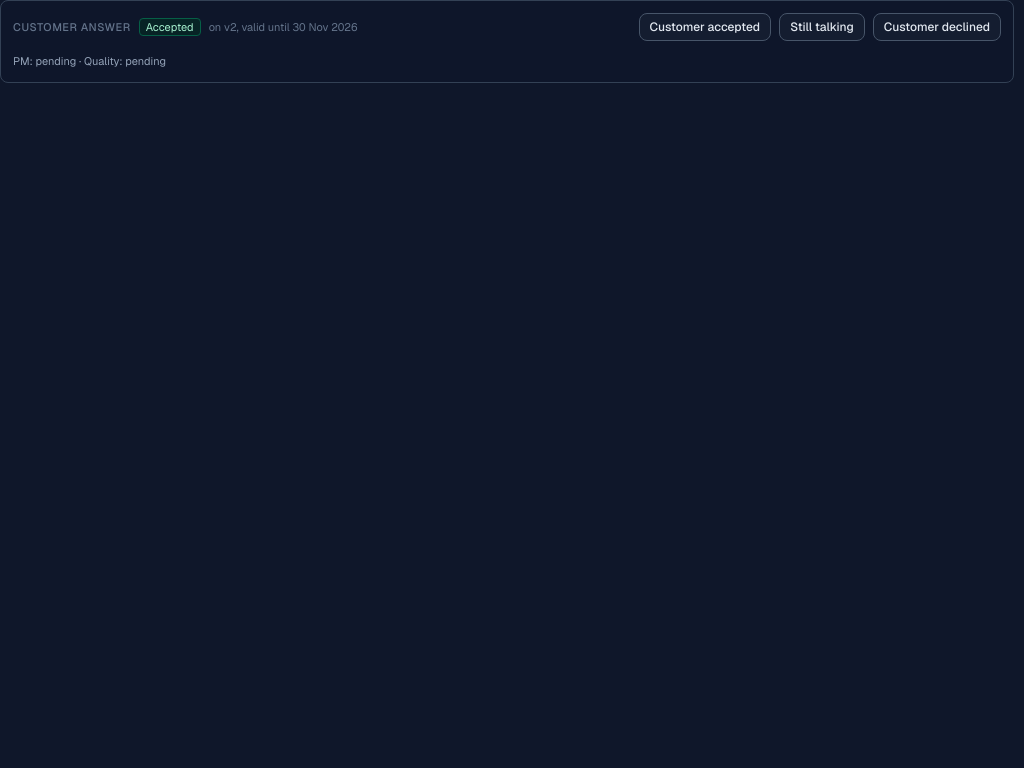
Test case: CustomerDecision §7 (COMMERCIAL_V2) › a supplement out is answered past approval, without a new release date
Later steps or results of the test are not shown.
Click the button "Customer declined": click(937, 27) [873,13,1001,41]
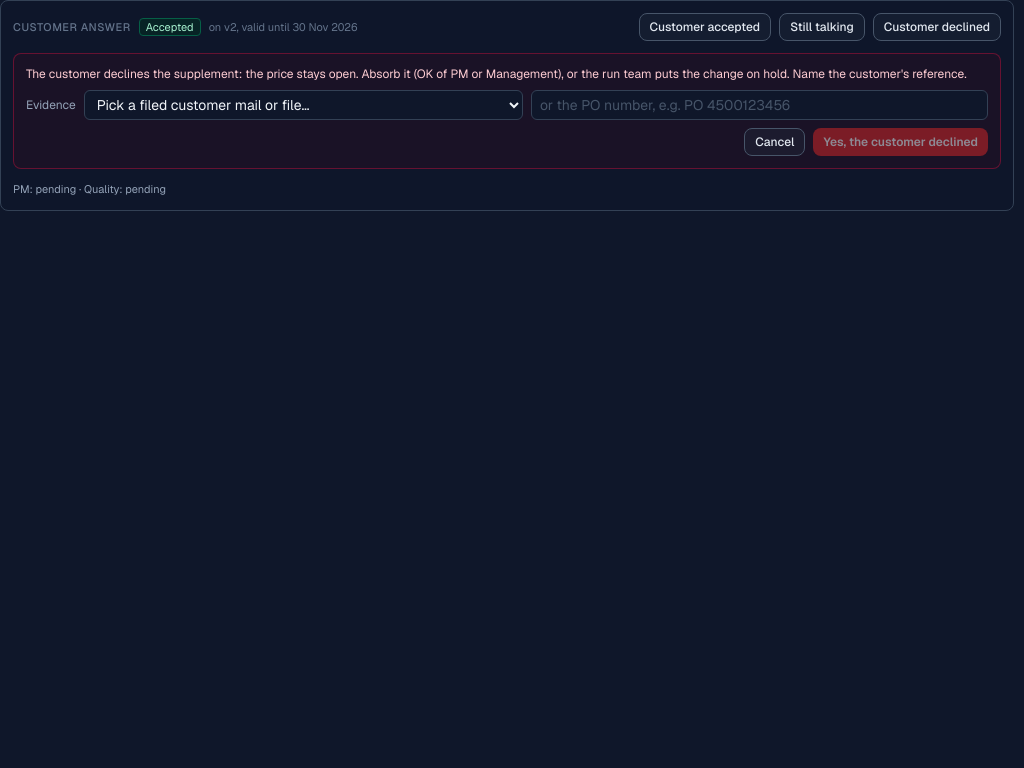
Check: the dialog with test id "decline-confirm-box" shows "the price stays open", box [26,66,967,82]
Click the button "Customer accepted": click(705, 27) [639,13,771,41]
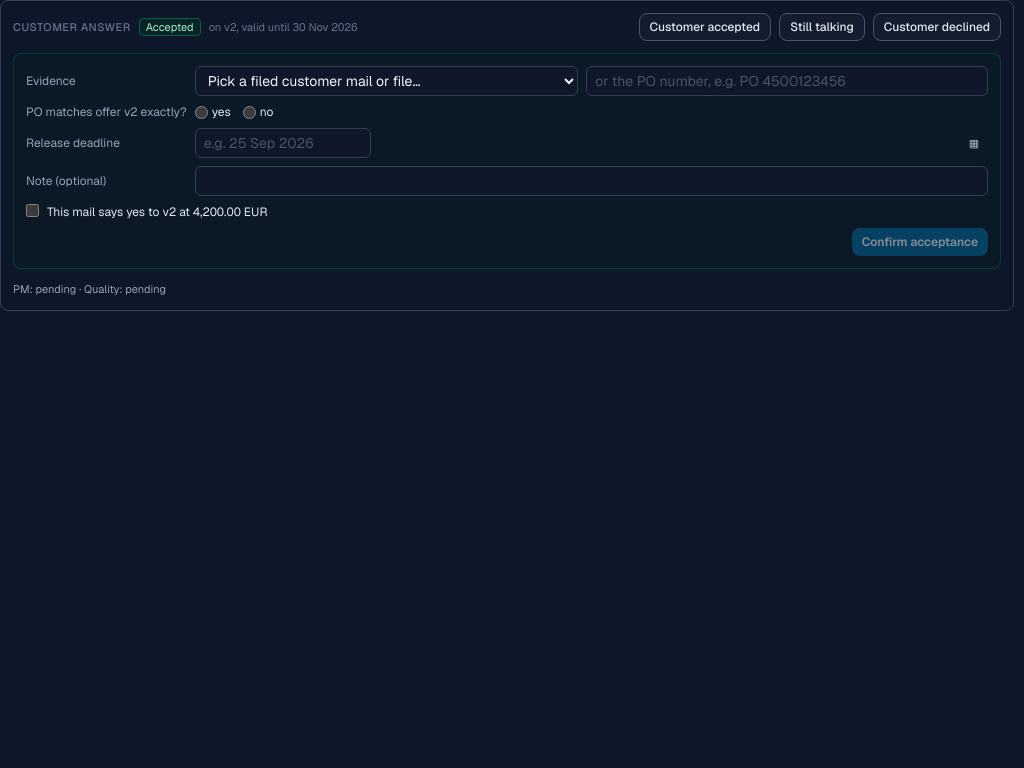
In the field with test id "answer-ref": (787, 81) [586,66,988,96], type "PO 4500123999"
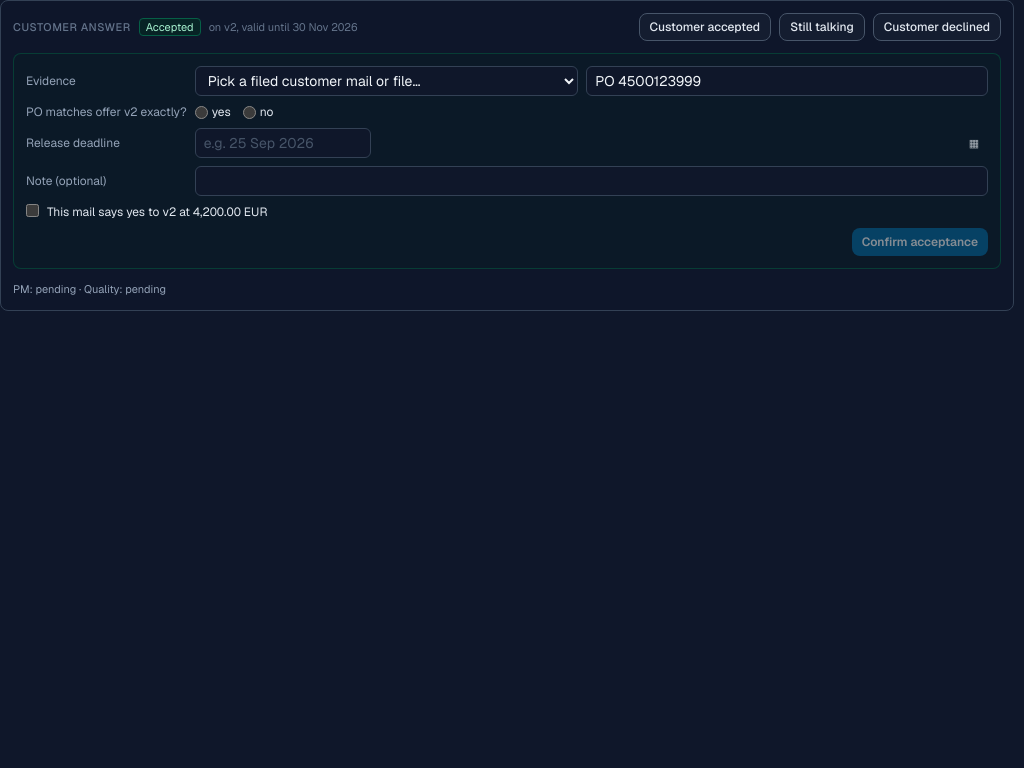
Click the radio button with test id "po-match-yes": click(201, 112) [195,106,208,118]
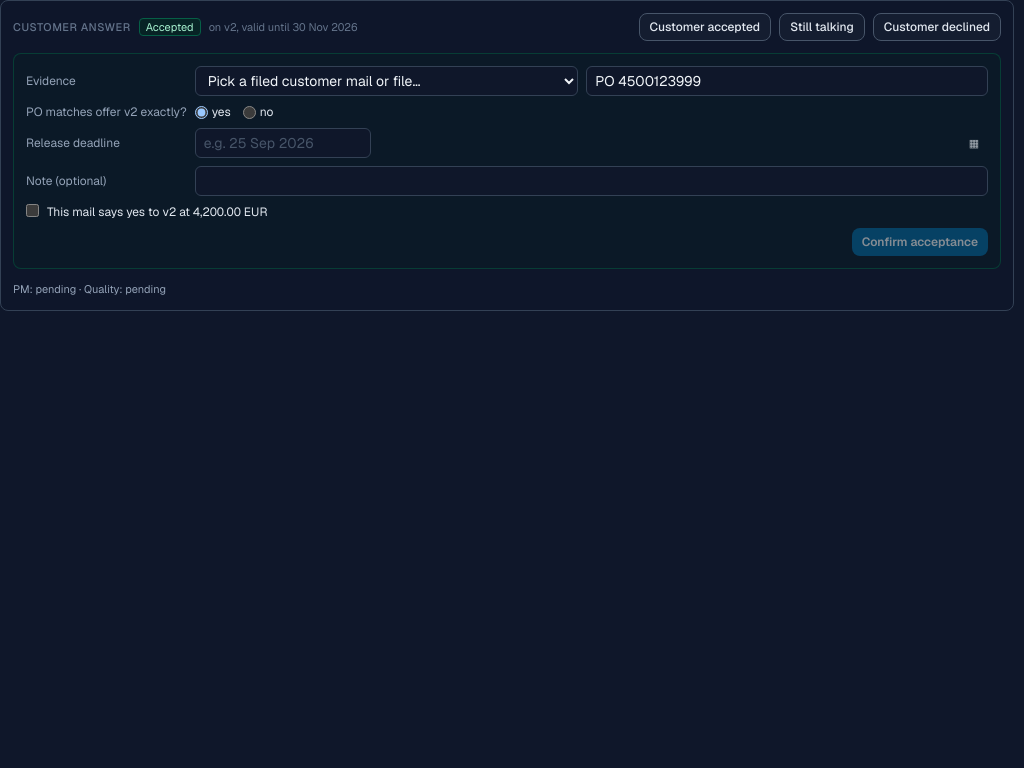
Click the checkbox with test id "accept-total": click(32, 210) [26,204,39,217]
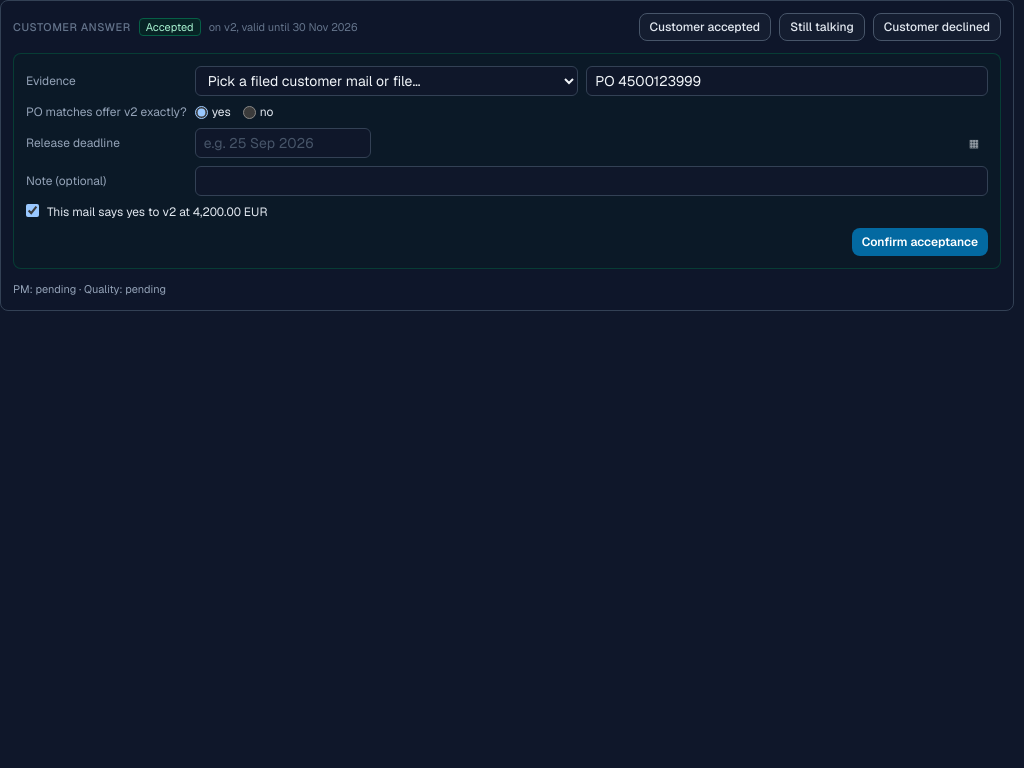
Check: the button with test id "accept-confirm" is enabled, box [852,228,988,256]
